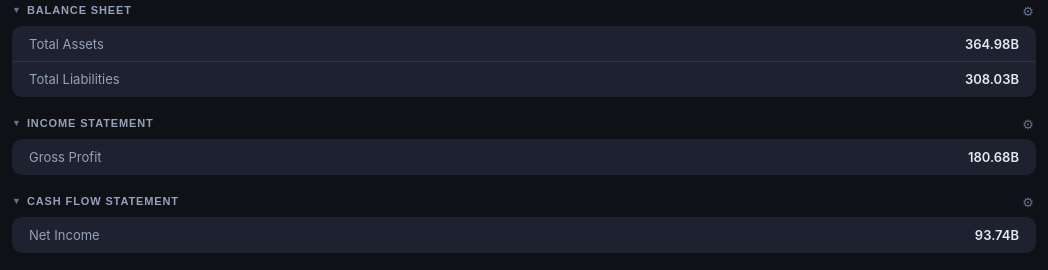
ReportedFinancials › collapses a section when its title is clicked
Click the button with aria-label "Toggle Balance Sheet". click: (79, 10)
box: [12,4,1020,16]
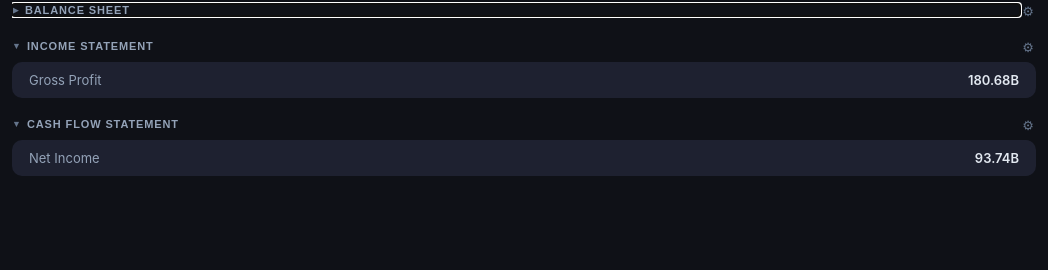
expect the text "Total Assets" is gone: met
